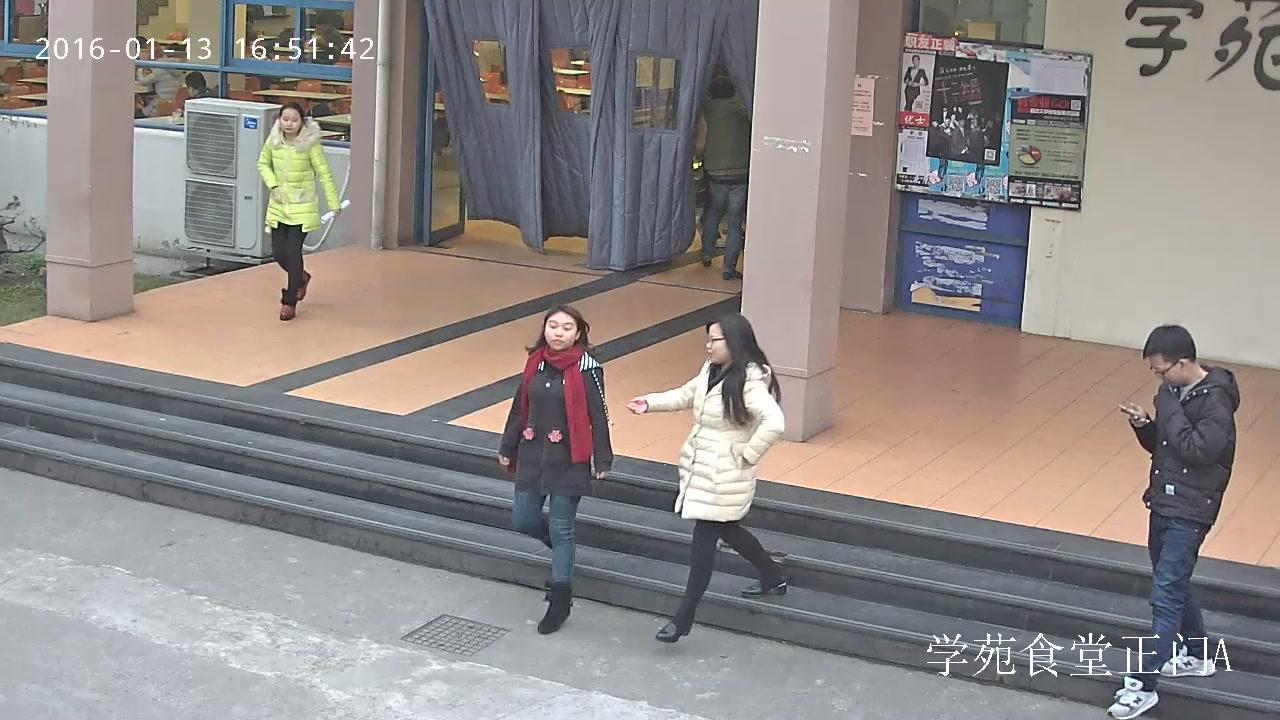person: (625, 312, 787, 641), (1108, 325, 1240, 720), (498, 305, 614, 633), (257, 102, 349, 320), (695, 75, 751, 278), (137, 66, 184, 117), (903, 55, 928, 111)
